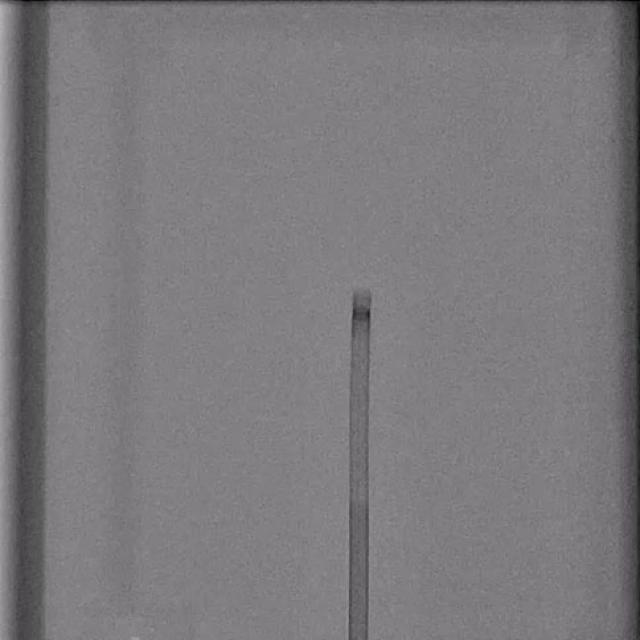bend: (350, 486, 368, 503)
entry: (349, 635, 367, 640)
marker: (352, 304, 371, 324)
tip: (352, 288, 373, 298)
